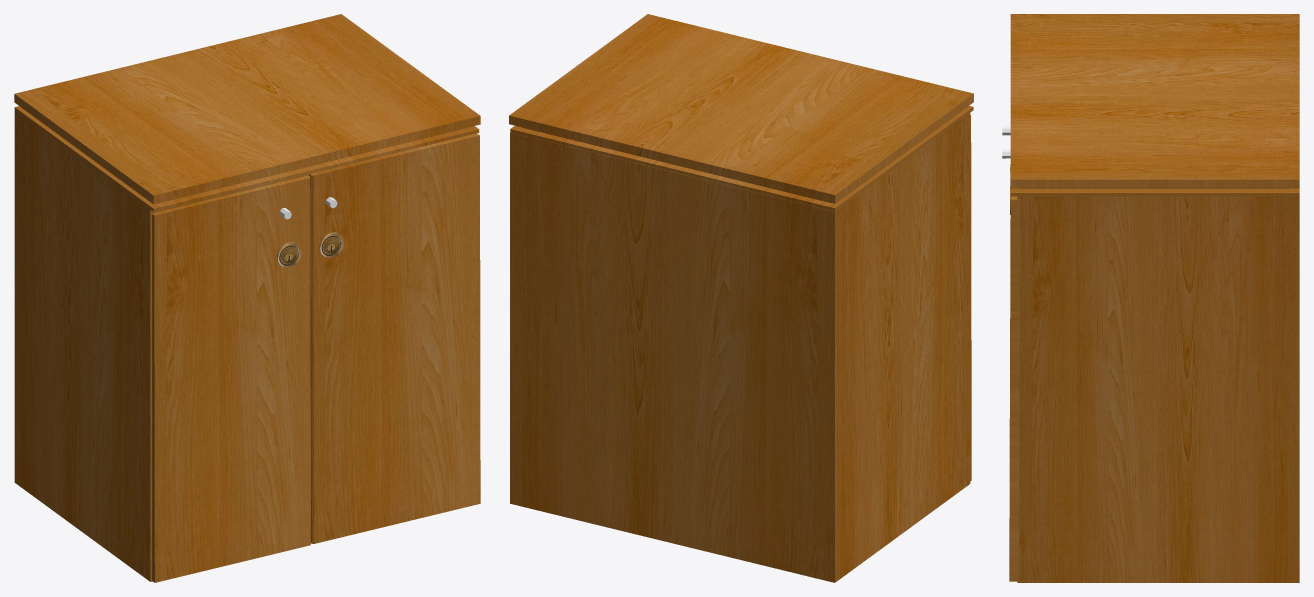
The picture shows the model from 3 angles, left to right: view 1: azimuth 30°, elevation 25°; view 2: azimuth 150°, elevation 25°; view 3: azimuth 270°, elevation 25°; orthographic projection. The views are drawn at different scales.
Visible parts, largest first — view 1: polySurface472, polySurface474, polySurface473; view 2: polySurface472, polySurface473; view 3: polySurface472, polySurface474.
Boxes of the visible parts, bbox=[...] form: polySurface472: bbox=[14, 14, 480, 581]; polySurface474: bbox=[309, 133, 480, 543]; polySurface473: bbox=[152, 175, 310, 582]; polySurface472: bbox=[509, 14, 973, 582]; polySurface473: bbox=[970, 115, 971, 481]; polySurface472: bbox=[1010, 14, 1299, 582]; polySurface474: bbox=[1009, 196, 1020, 581].
Bounding box in the file's own units: 10.01 × 11.38 × 7.59.
Materials: 3 (2 with a texture image).
